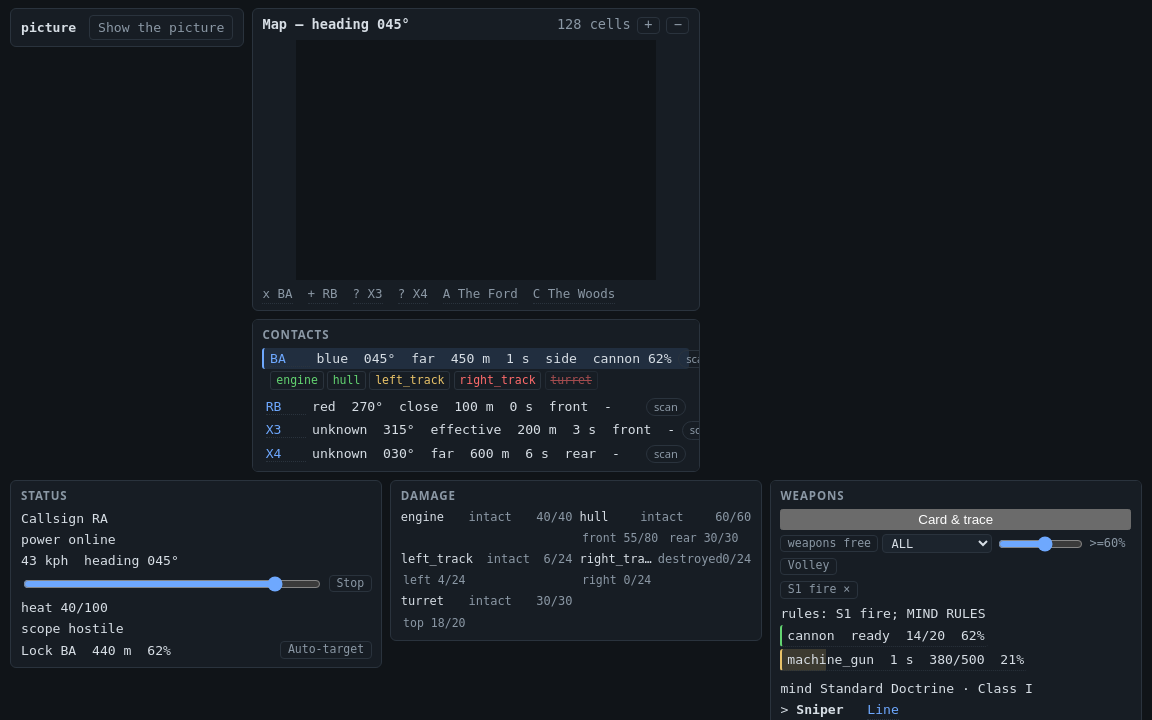
CockpitScreen mounted › zooms in with `+` and out with `−`, and the readout follows
Expected: the button named "zoom out" reads "−", [666,17,689,34]
Expected: the text "128 cells" is shown, [557,15,631,35]
Step 1. Click the button named "zoom in" → x=648, y=25, box [637,17,660,34]
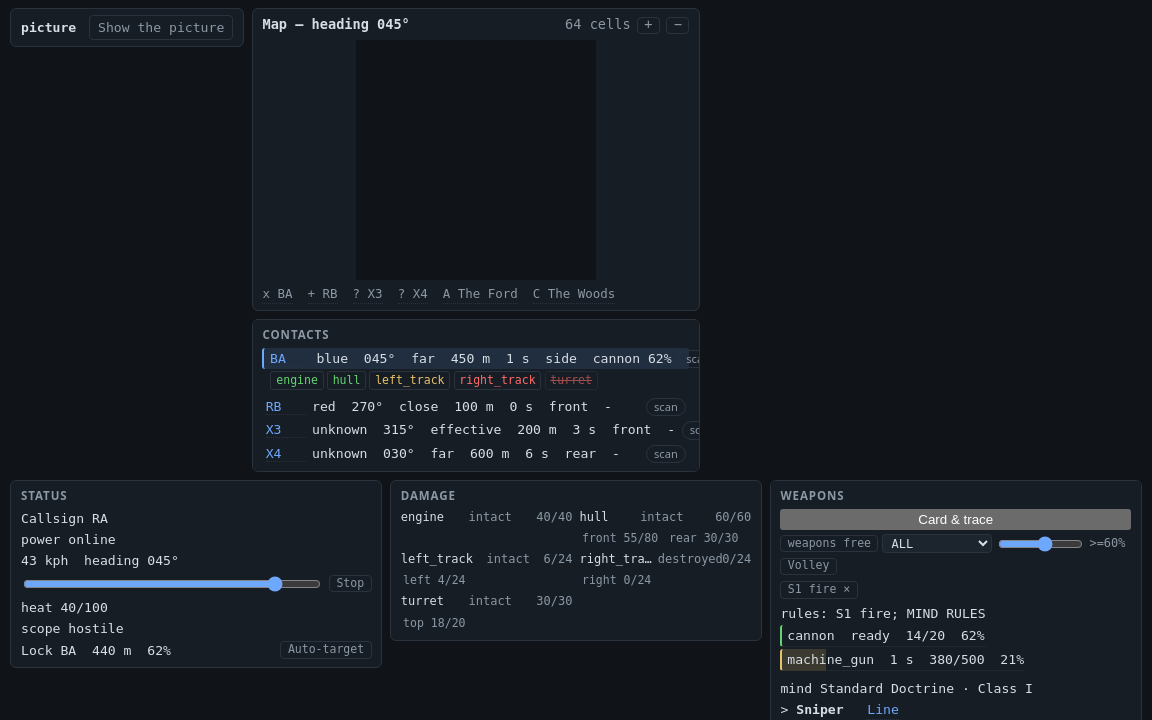
Now the text "64 cells" is shown, box [565,15,631,35]
Step 2. Click the button named "zoom out" → x=678, y=25, box [666,17,689,34]
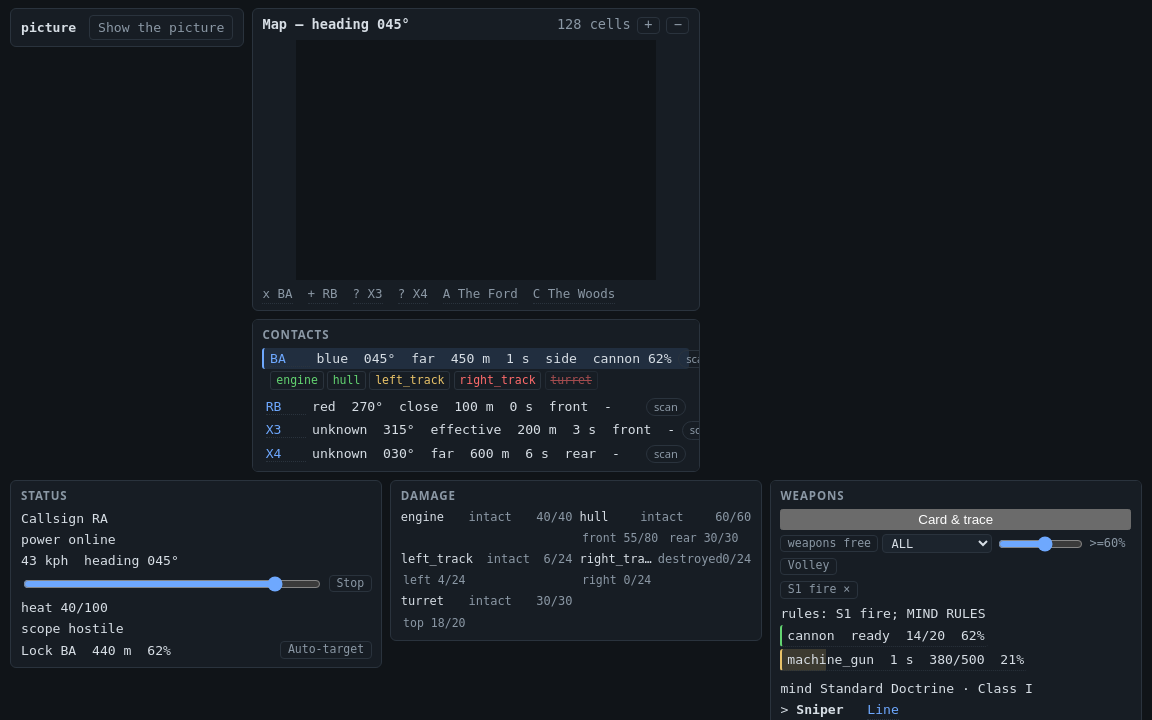
Step 3. Click the button named "zoom out" → x=678, y=25, box [666,17,689,34]
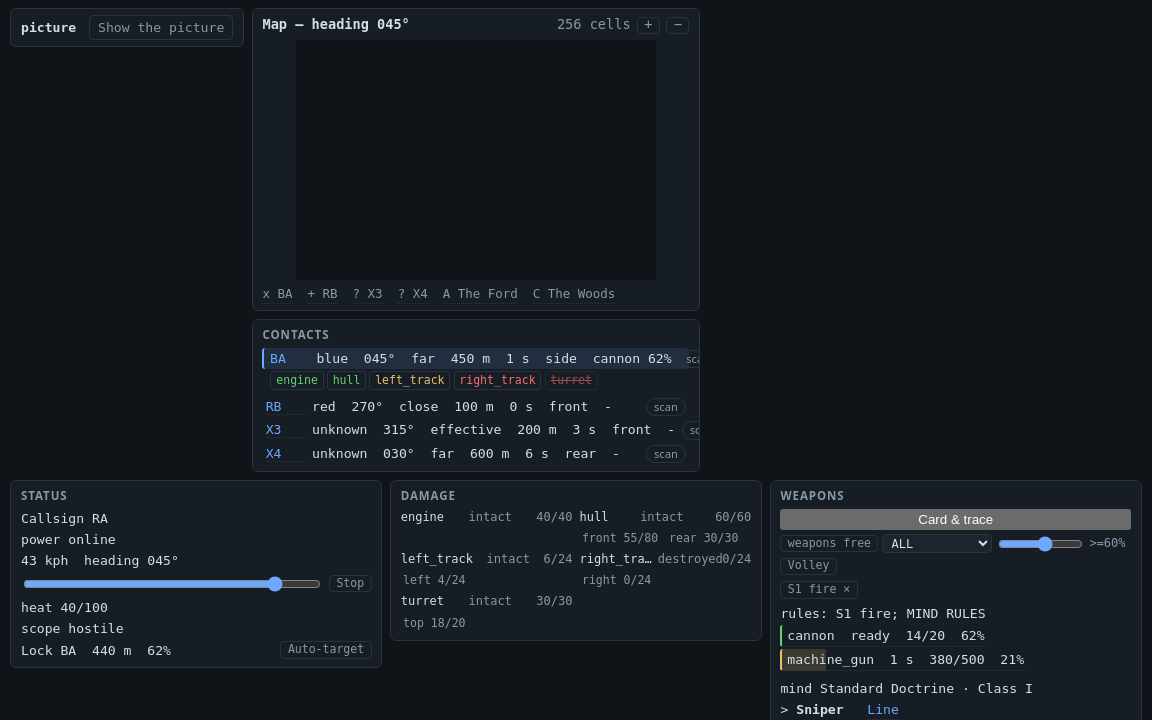
Now the text "256 cells" is shown, box [557,15,631,35]
